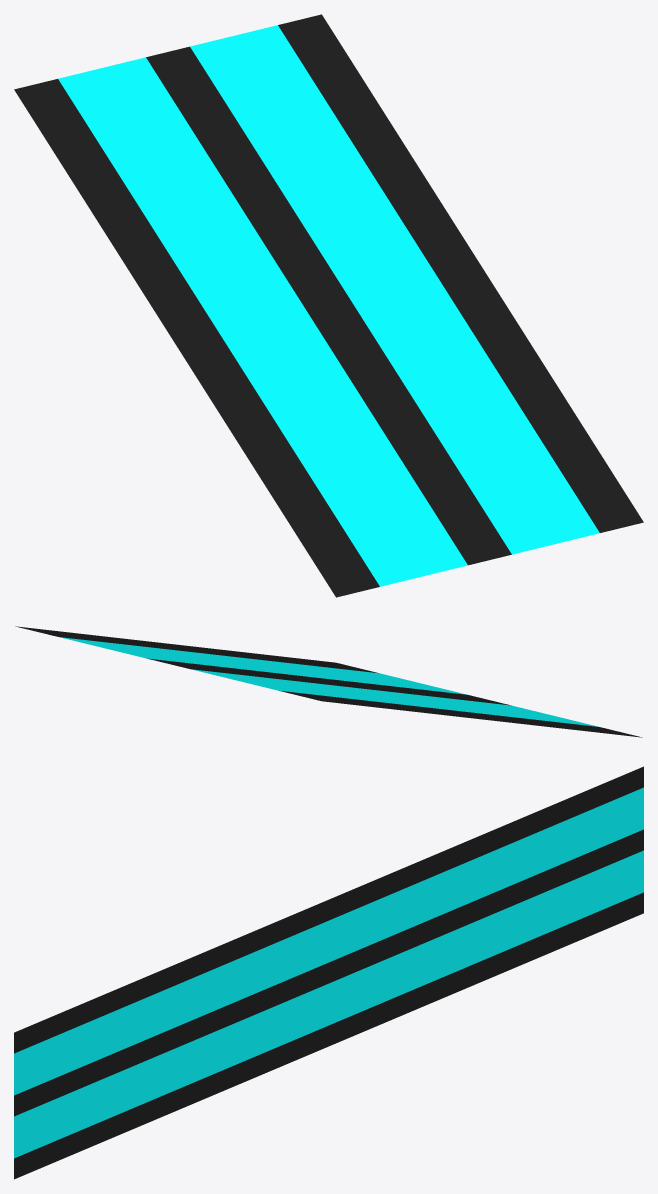
File: RaceTrack_Up25Degree_10m 1.fbx
The picture shows the model from 3 angles, top to bottom: view 1: azimuth 30°, elevation 25°; view 2: azimuth 150°, elevation 25°; view 3: azimuth 270°, elevation 25°; orthographic projection. The views are drawn at different scales.
Parts seen in each view (by area): view 1: Up25Degree_10m; view 2: Up25Degree_10m; view 3: Up25Degree_10m.
Part boxes in pixels (x1,y1,x2,y2): Up25Degree_10m: (14, 14, 643, 597); Up25Degree_10m: (15, 626, 642, 737); Up25Degree_10m: (14, 766, 643, 1179).
Size of the model in its own units: 5 by 4.23 by 9.06.
